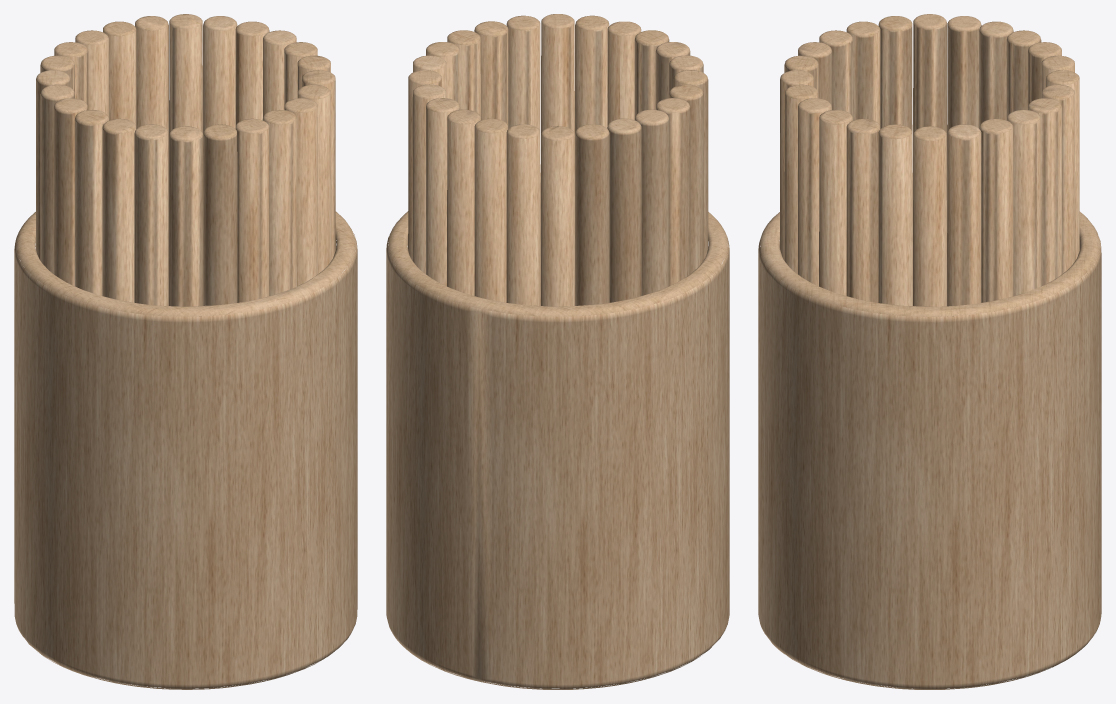
File: queen-white.glb
The picture shows the model from 3 angles, left to right: view 1: azimuth 30°, elevation 25°; view 2: azimuth 150°, elevation 25°; view 3: azimuth 270°, elevation 25°; orthographic projection.
Visible parts, largest first — view 1: Cylindra_Dáma_bílý; view 2: Cylindra_Dáma_bílý; view 3: Cylindra_Dáma_bílý.
Part boxes in pixels (<box>): Cylindra_Dáma_bílý: <box>14,14,357,689</box>; Cylindra_Dáma_bílý: <box>386,14,729,689</box>; Cylindra_Dáma_bílý: <box>758,14,1101,689</box>.
Size of the model in its own units: 0.5711 by 1 by 0.5715.
Materials: 2 (2 with a texture image).
